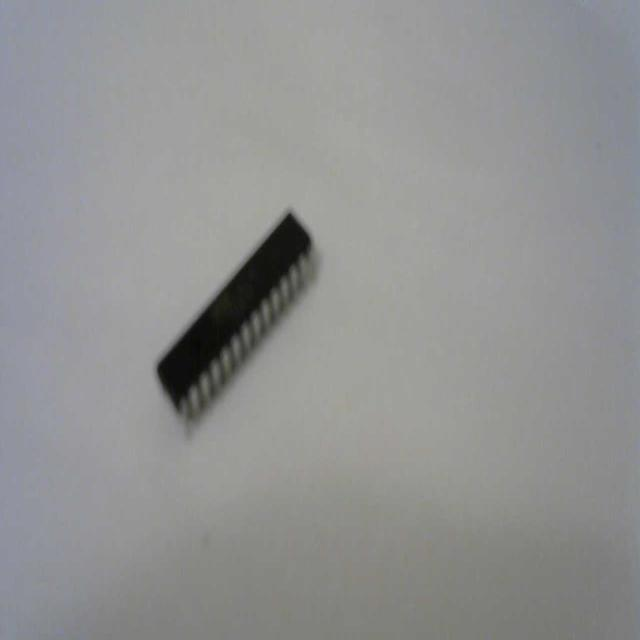atmega: (153, 205, 317, 426)
